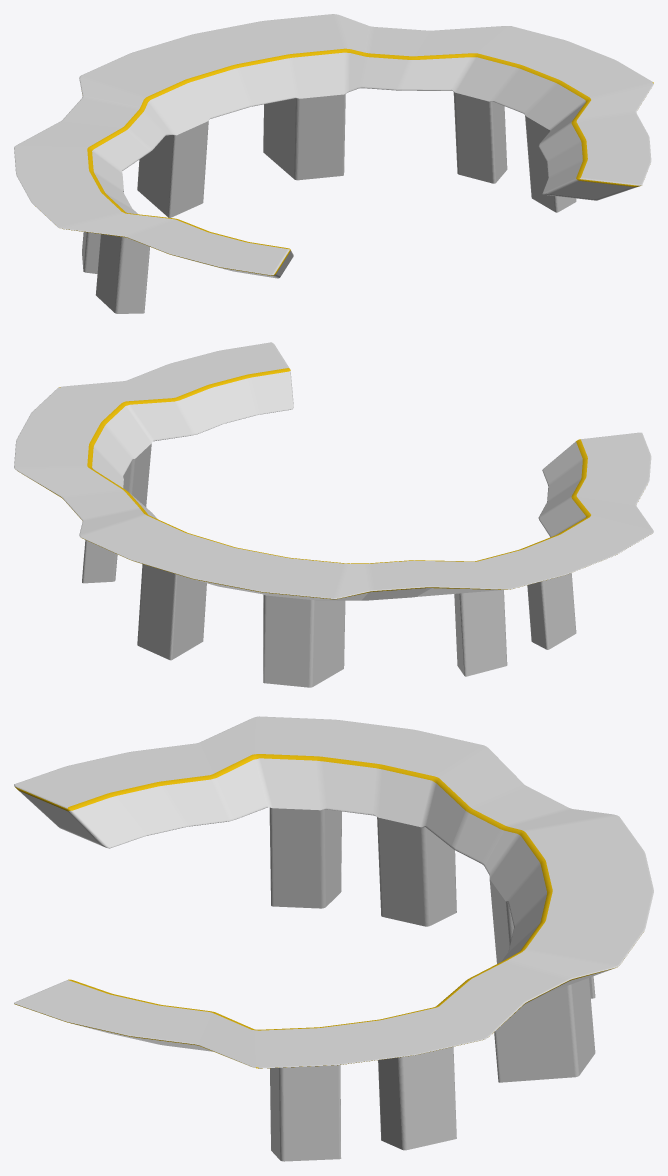
File: Control Table.fbx
3 renders of one model, top to bottom at view 1: azimuth 30°, elevation 25°; view 2: azimuth 150°, elevation 25°; view 3: azimuth 270°, elevation 25°, orthographic. The views are drawn at different scales.
Visible parts, largest first — view 1: Circle; view 2: Circle; view 3: Circle.
Part boxes in pixels (x1,y1,x2,y2): Circle: (14, 14, 653, 313); Circle: (14, 342, 653, 687); Circle: (14, 716, 653, 1161).
Size of the model in its own units: 367 by 68.16 by 282.
